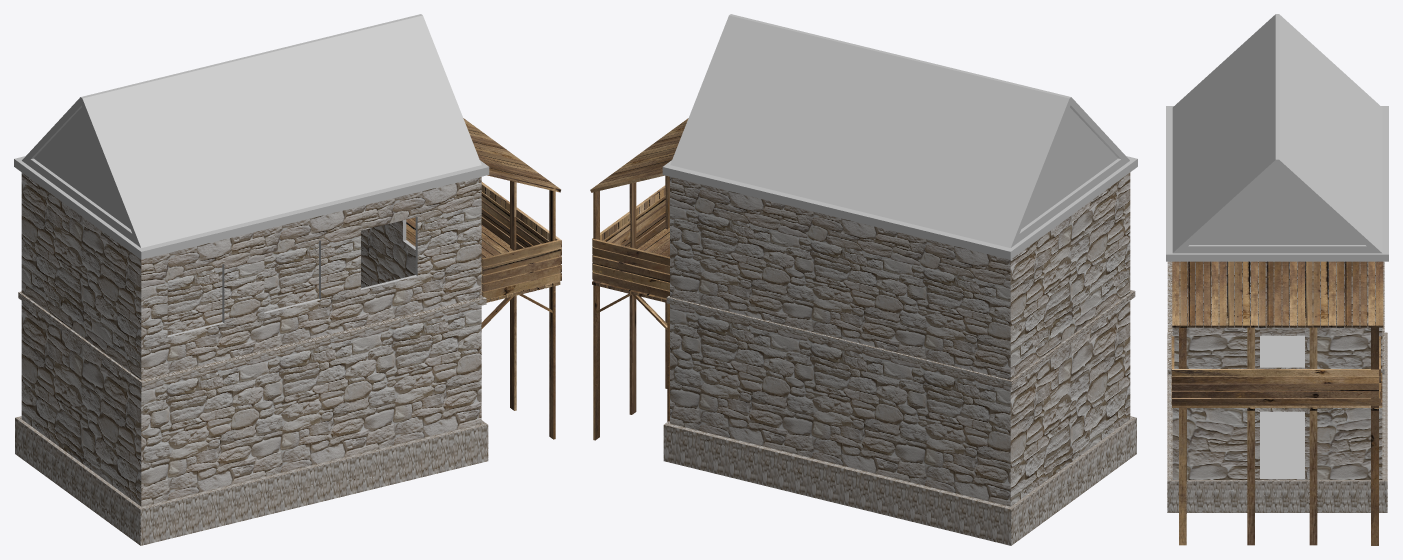
The model's file is SM_House_2.fbx.
3 renders of one model, left to right at view 1: azimuth 30°, elevation 25°; view 2: azimuth 150°, elevation 25°; view 3: azimuth 270°, elevation 25°, orthographic. The views are drawn at different scales.
Parts seen in each view (by area): view 1: Cube.032; view 2: Cube.032; view 3: Cube.032.
Part boxes in pixels (x1,y1,x2,y2): Cube.032: (14, 14, 561, 545); Cube.032: (590, 14, 1137, 545); Cube.032: (1166, 14, 1388, 545).
Size of the model in its own units: 1405 by 1273 by 729.
